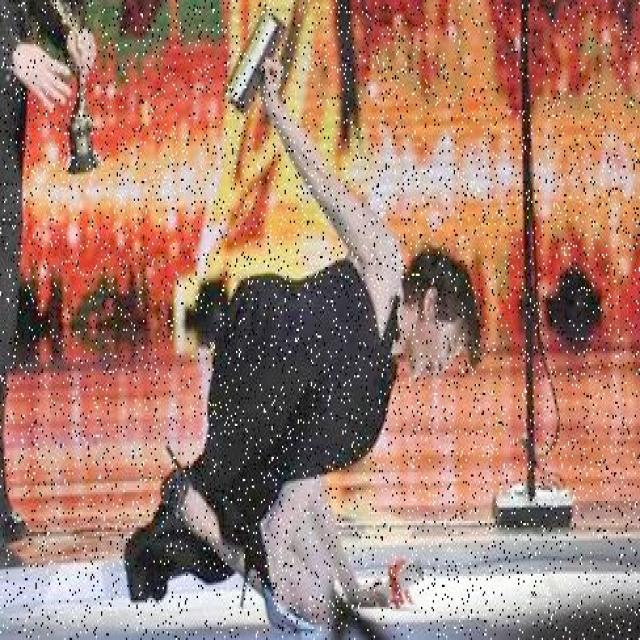fall: (131, 192, 485, 612)
